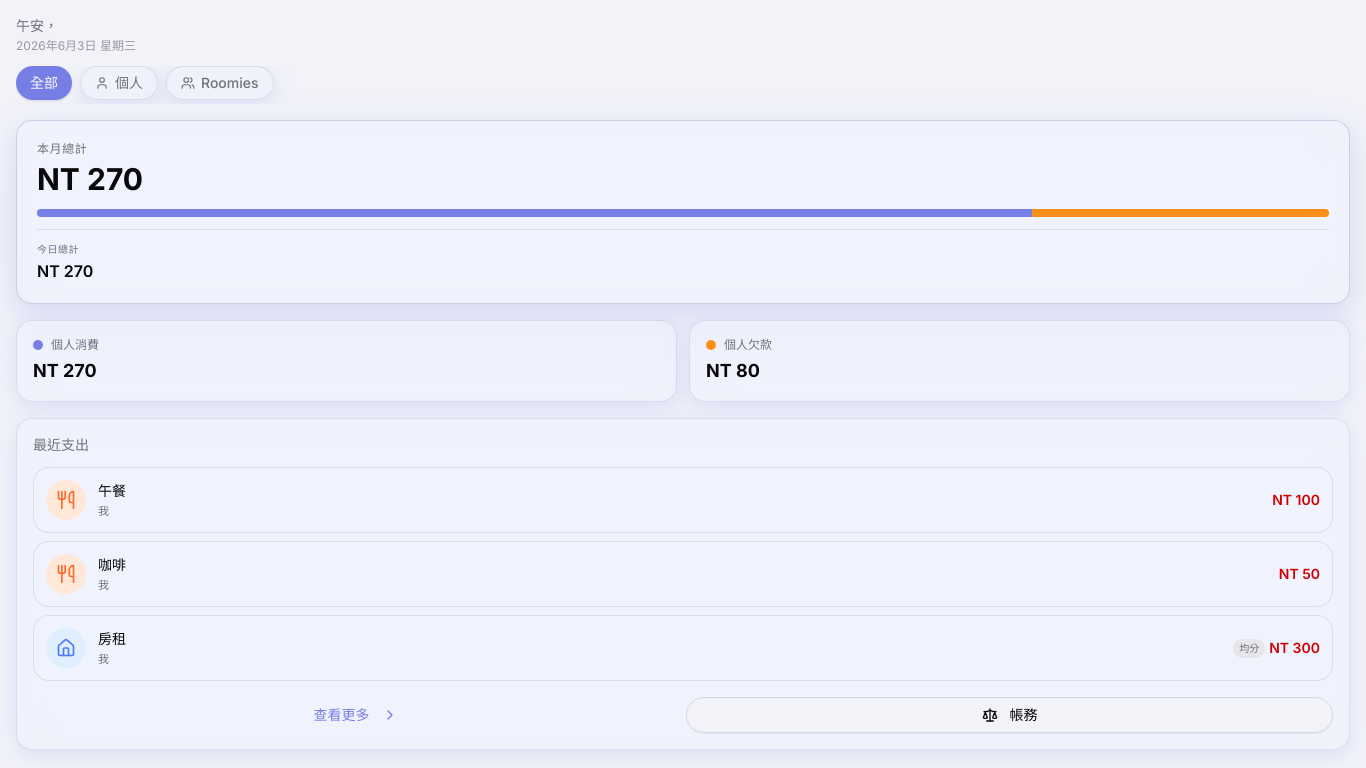
Test: DashboardPage › personal chip scopes stats to personal expenses only
What coordinates should you click on to do the following:
click the button "個人"
I would click on:
 (119, 83)
Its box is [80, 66, 158, 100].
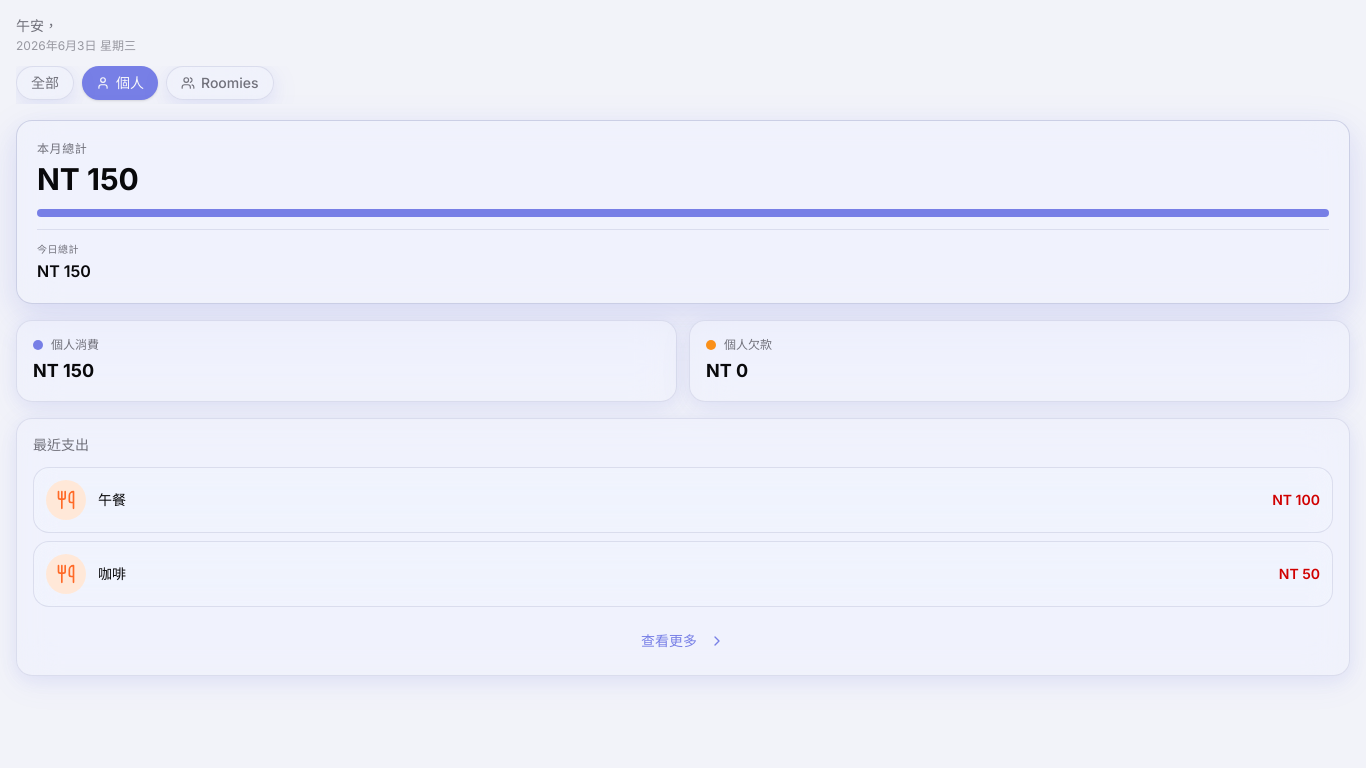
Expected: the text "午餐" is shown, [98, 491, 126, 508]
Expected: the text "NT 0" is shown, [706, 360, 748, 381]
Expected: the button "房租" is gone
